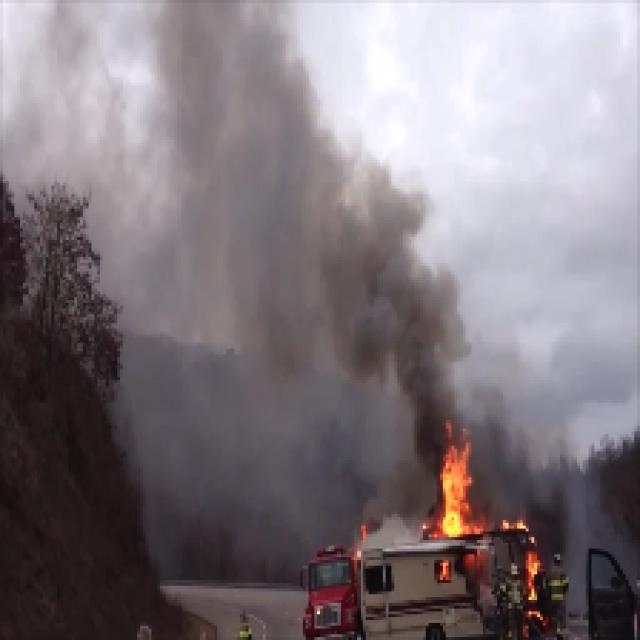fire: (439, 448, 474, 530)
smoke: (283, 141, 377, 350), (409, 290, 456, 430)
